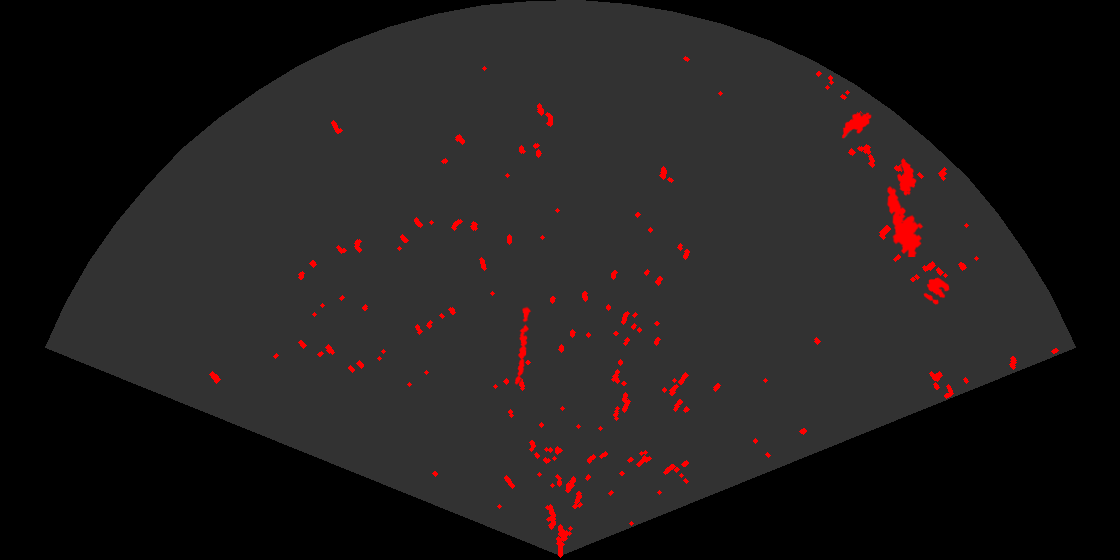AUV: (840, 111, 873, 140), (895, 157, 918, 198)
ball: (922, 276, 951, 306)
chain: (513, 306, 533, 387)
frogman: (885, 185, 925, 257)
